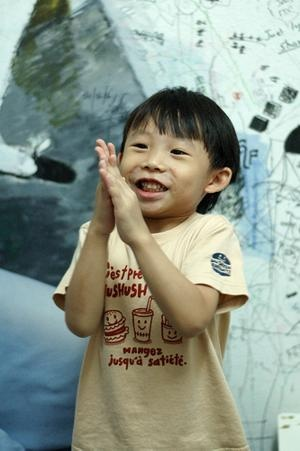person without safety: (58, 86, 268, 451)
